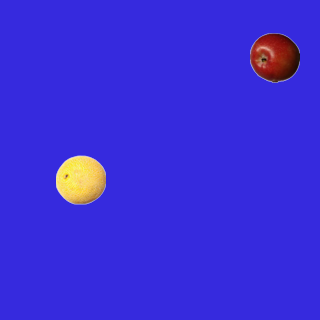Apple Braeburn: (249, 32, 299, 82)
Cantaloupe 1: (55, 154, 105, 204)
